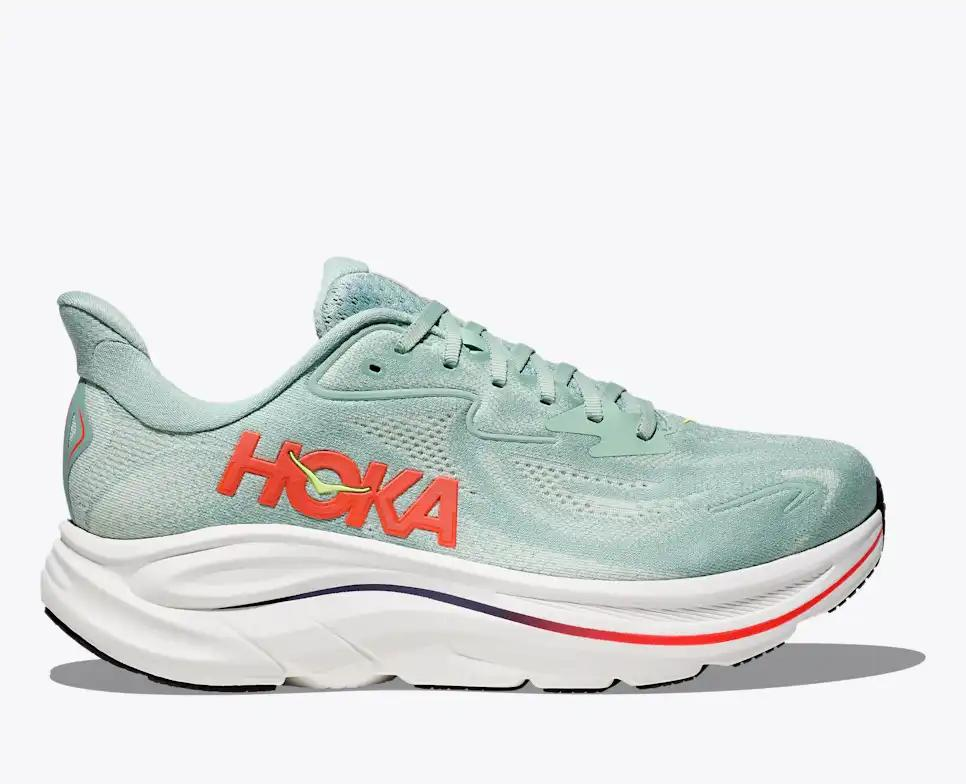hoka logo: (208, 421, 490, 561)
